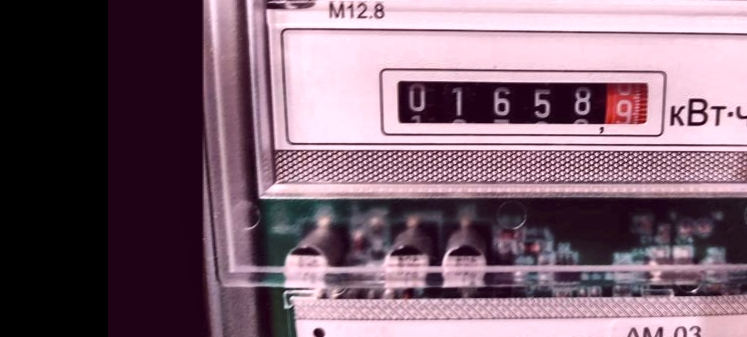0: (408, 81, 428, 111)
1: (451, 84, 468, 116)
5: (533, 86, 554, 117)
6: (493, 83, 513, 116)
8: (574, 83, 594, 115)
9: (614, 97, 635, 125)
screen: (372, 59, 672, 142)
